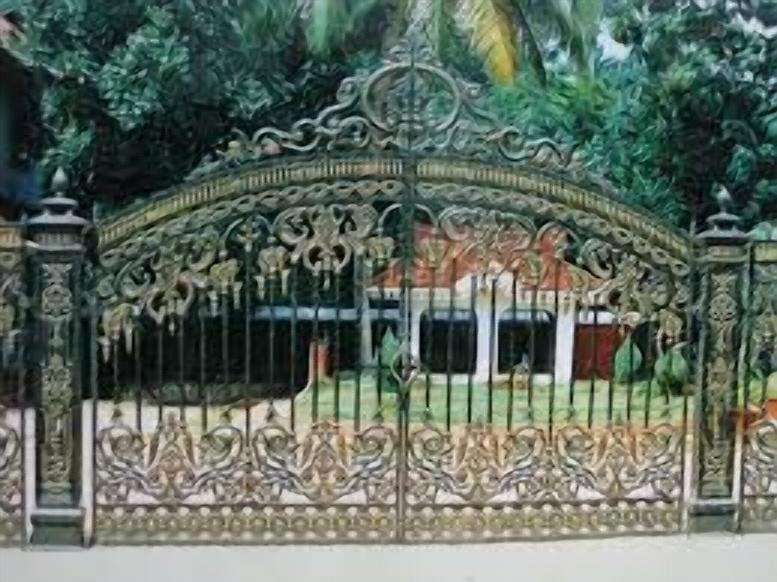Building: (242, 222, 647, 382)
Gate: (87, 26, 700, 549), (737, 239, 777, 536), (0, 206, 31, 542)
